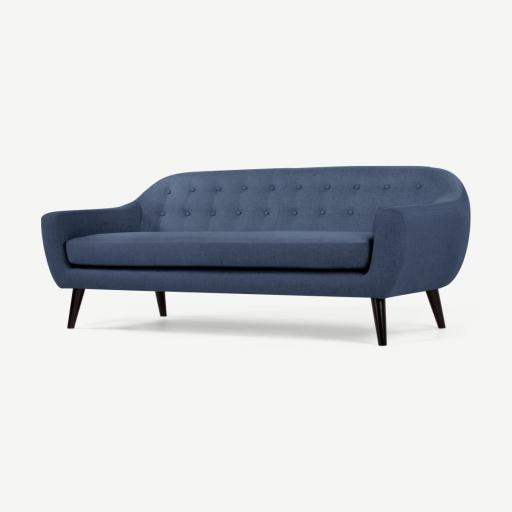back_cushion: (137, 167, 458, 231)
left_arm: (334, 191, 470, 298)
legs: (427, 290, 445, 328), (372, 298, 386, 346), (67, 289, 84, 328), (156, 291, 167, 316)
one-seater: (42, 166, 470, 346)
right_arm: (42, 202, 141, 287)
seat_cushion: (66, 230, 373, 270)
